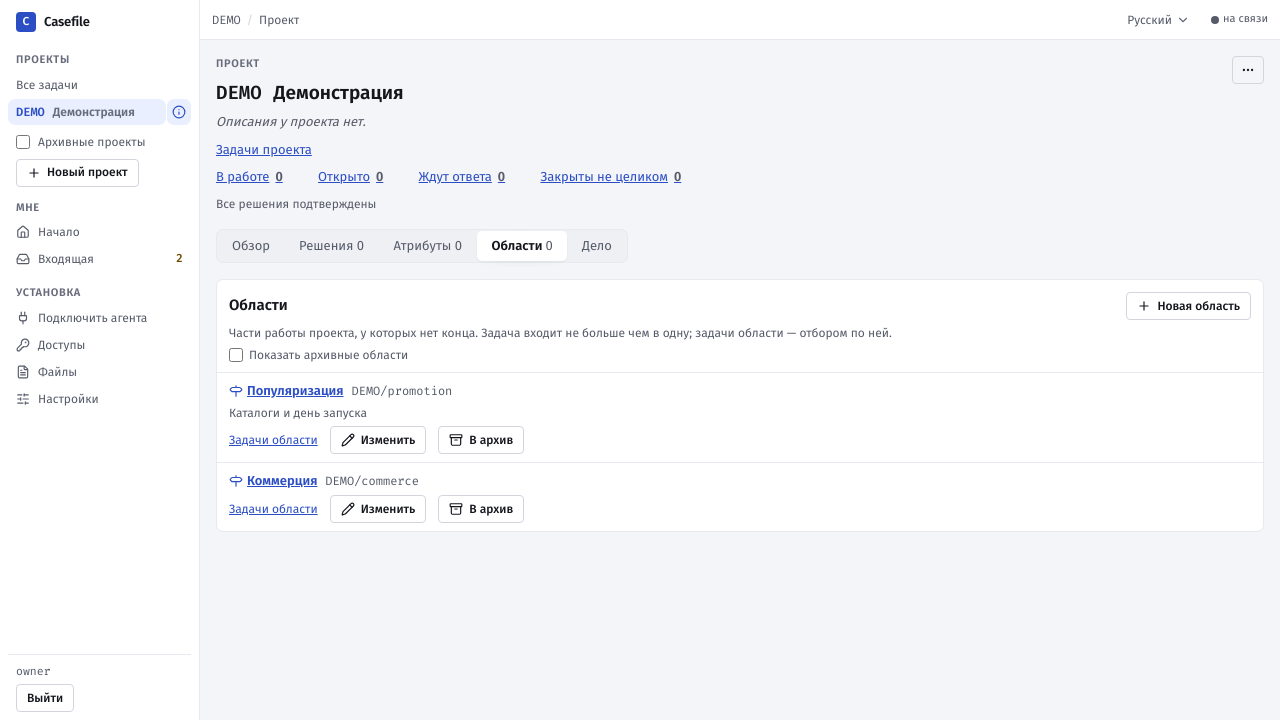
it: раздел «Области» экрана проекта › занятый ключ объяснён у поля ключа, окно остаётся открытым
Click the button "Новая область" at (1189, 306), box [1126,292,1251,320]
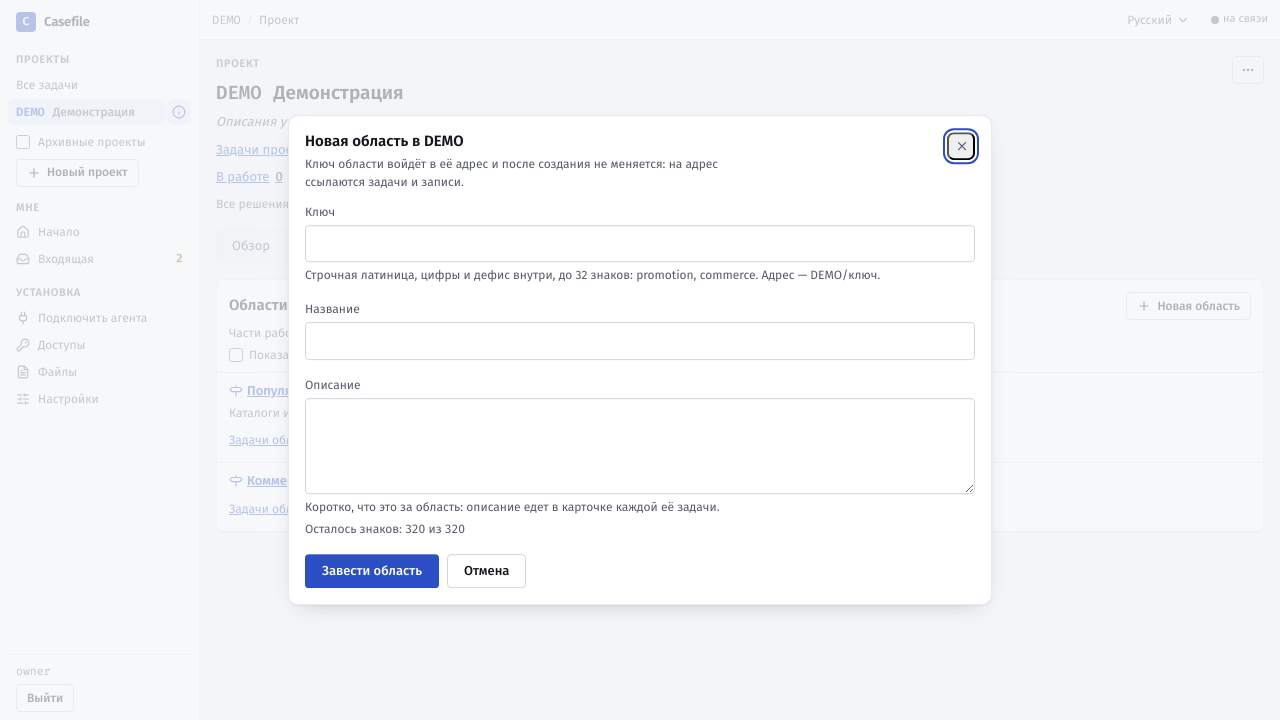
Type "promotion" into the field labelled "Ключ" at (640, 244), box [305,225,975,262]
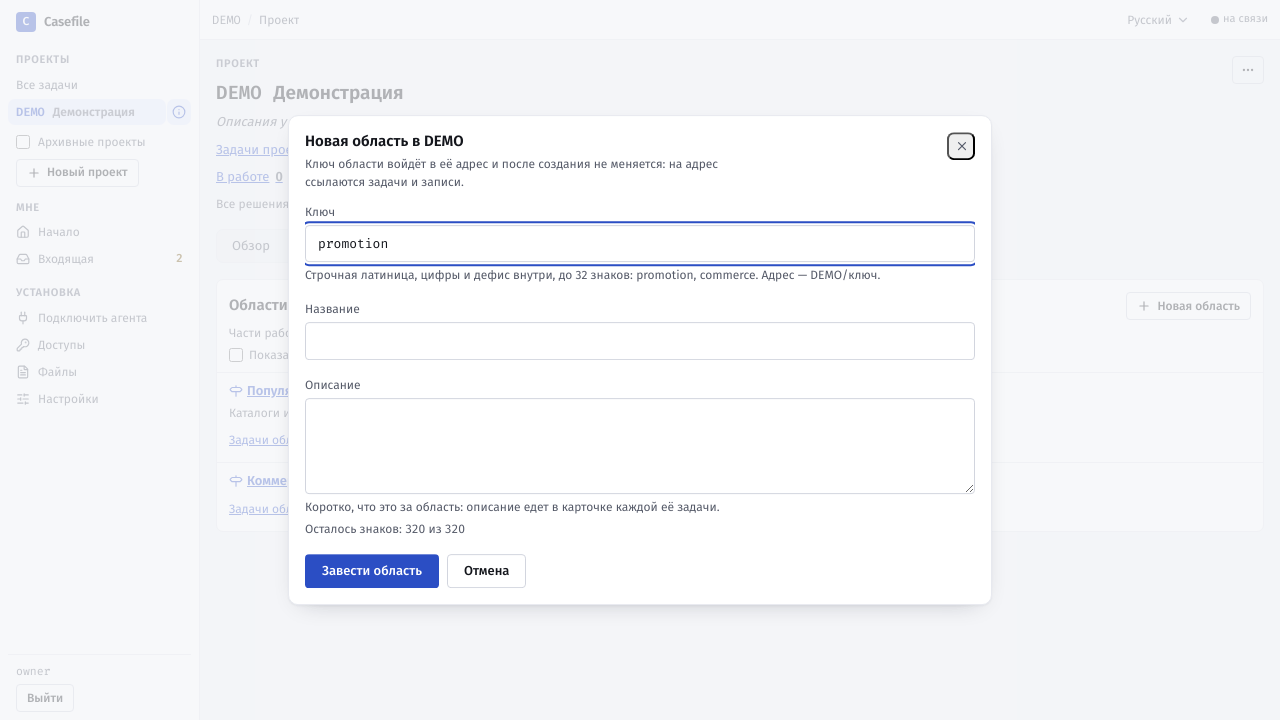
Type "Ещё" into the field labelled "Название" at (640, 341), box [305,322,975,360]
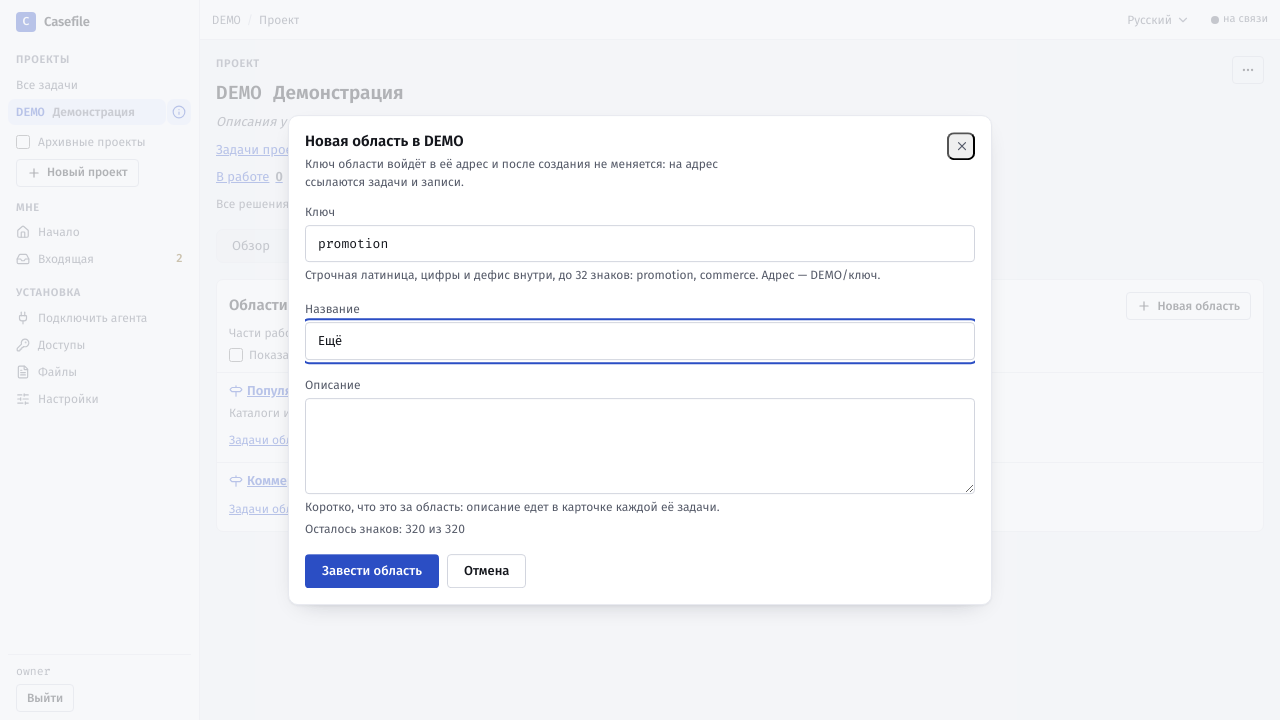
Click the button "Завести область" at (372, 571), box [305,554,439,588]
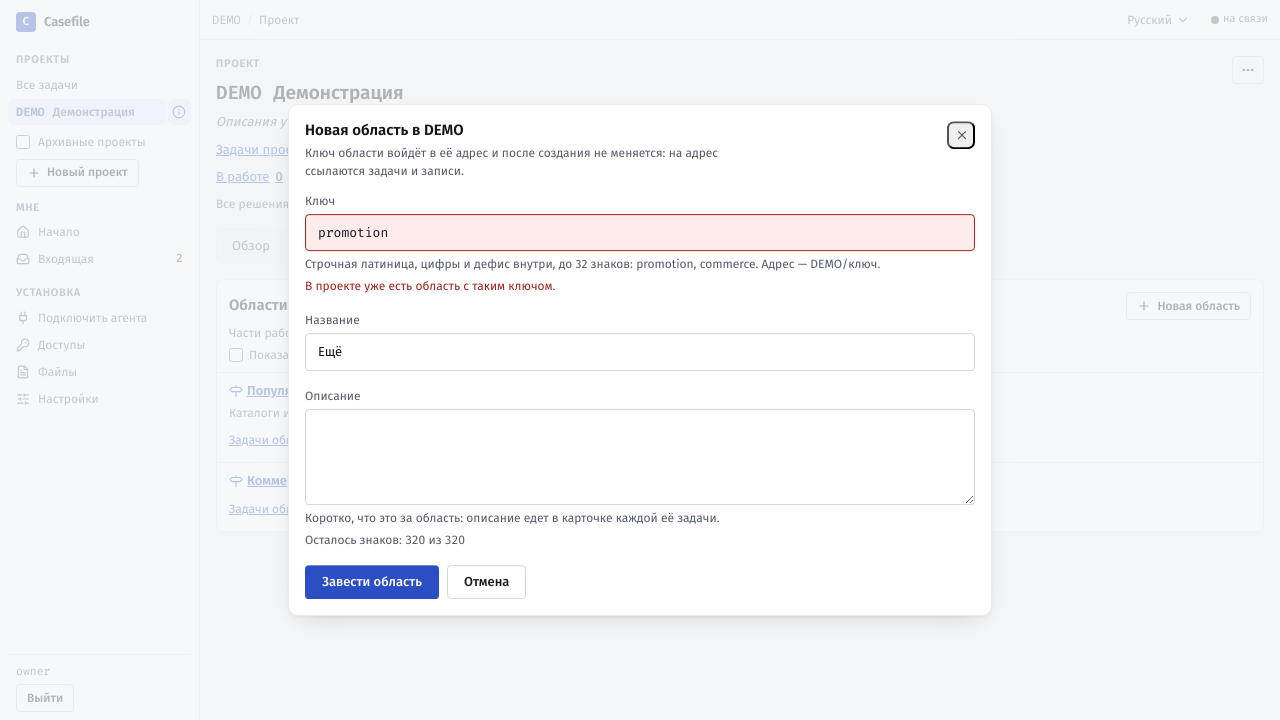
Expected: the message reads "В проекте уже есть область с таким ключом.", [305,279,556,293]
